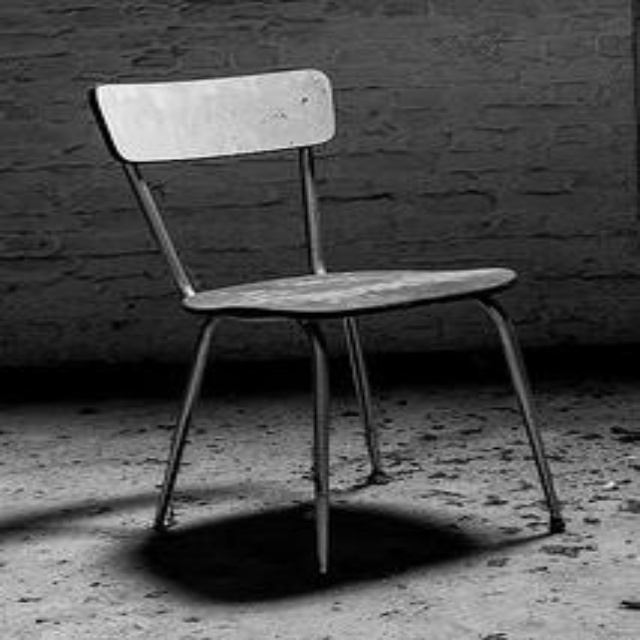obstacle: (93, 69, 562, 574)
